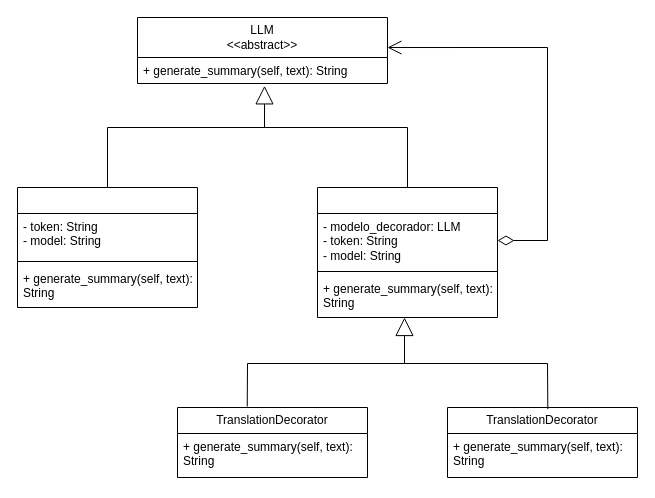
This 655x498 diagram has some shape labels left out. The box of each missing label's shape, as (x1, y1, x2, y2) in pixels:
BasicLLM: (16, 186, 198, 308)
LLMDecorator: (316, 186, 498, 318)
